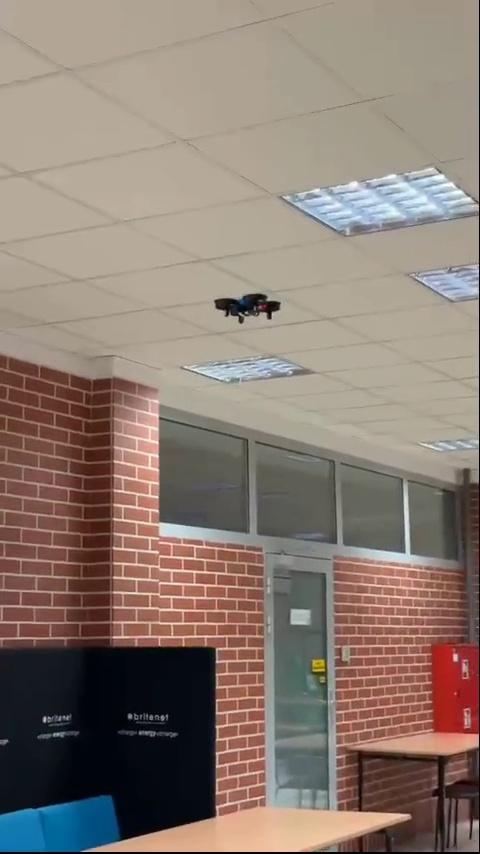drone: (213, 287, 278, 327)
